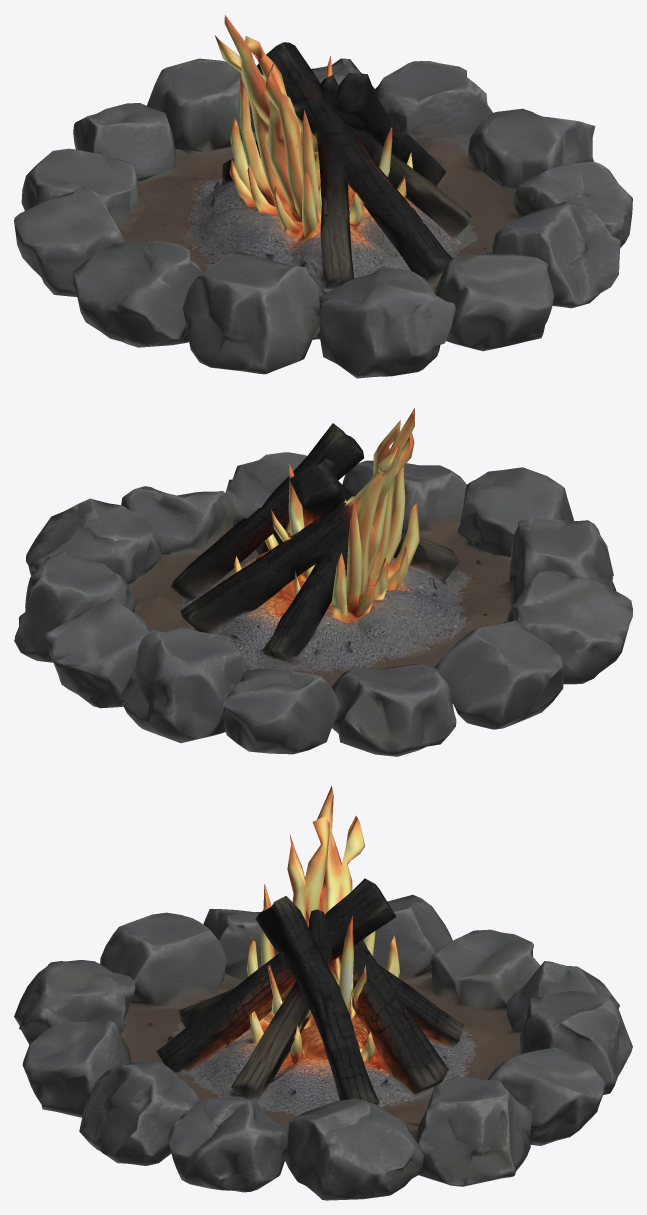
Rendered from Campfire.fbx.
3 views of the same model, one above another, from view 1: azimuth 30°, elevation 25°; view 2: azimuth 150°, elevation 25°; view 3: azimuth 270°, elevation 25° (orthographic). The views are drawn at different scales.
Visible parts, largest first — view 1: meshes[0]; view 2: meshes[0]; view 3: meshes[0].
Part boxes in pixels (left/top/right/bottom): meshes[0]: left=14, top=15, right=632, bottom=378; meshes[0]: left=14, top=408, right=632, bottom=756; meshes[0]: left=14, top=786, right=632, bottom=1200.
Bounding box in the file's own units: 98.91 × 44.57 × 100.
Materials: 1 (1 with a texture image).
